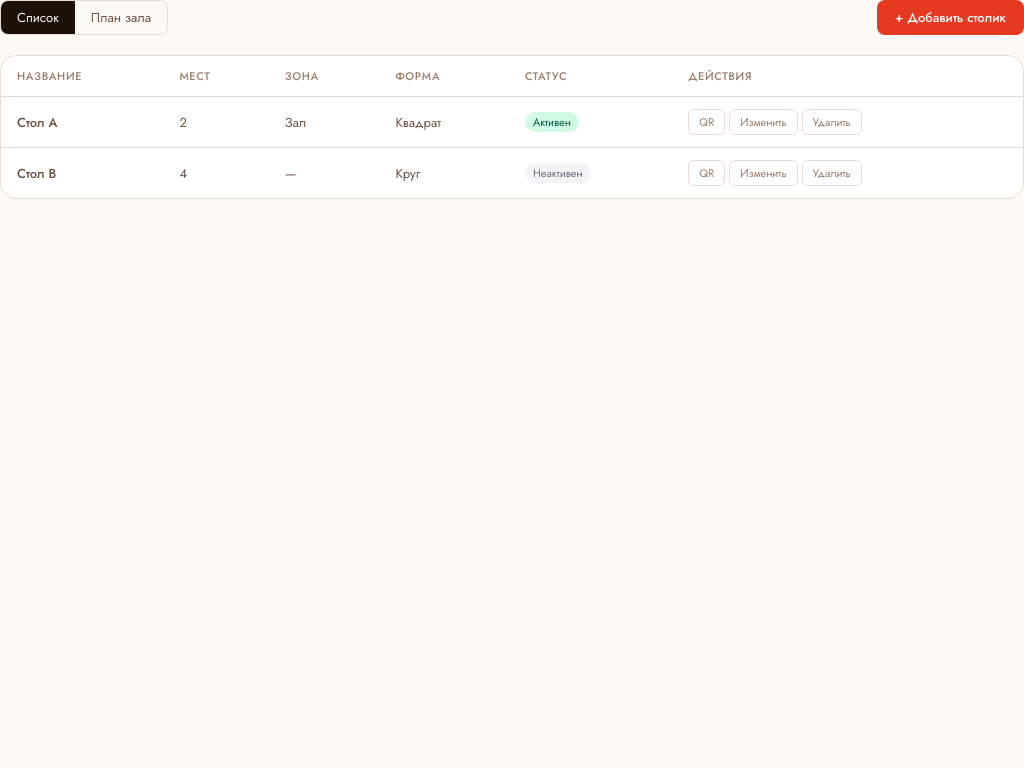
AdminTablesPage QR code › closes QR modal when Закрыть clicked
Click the button "QR" in the row of "Стол A": (707, 122) 688,109 -> 725,135
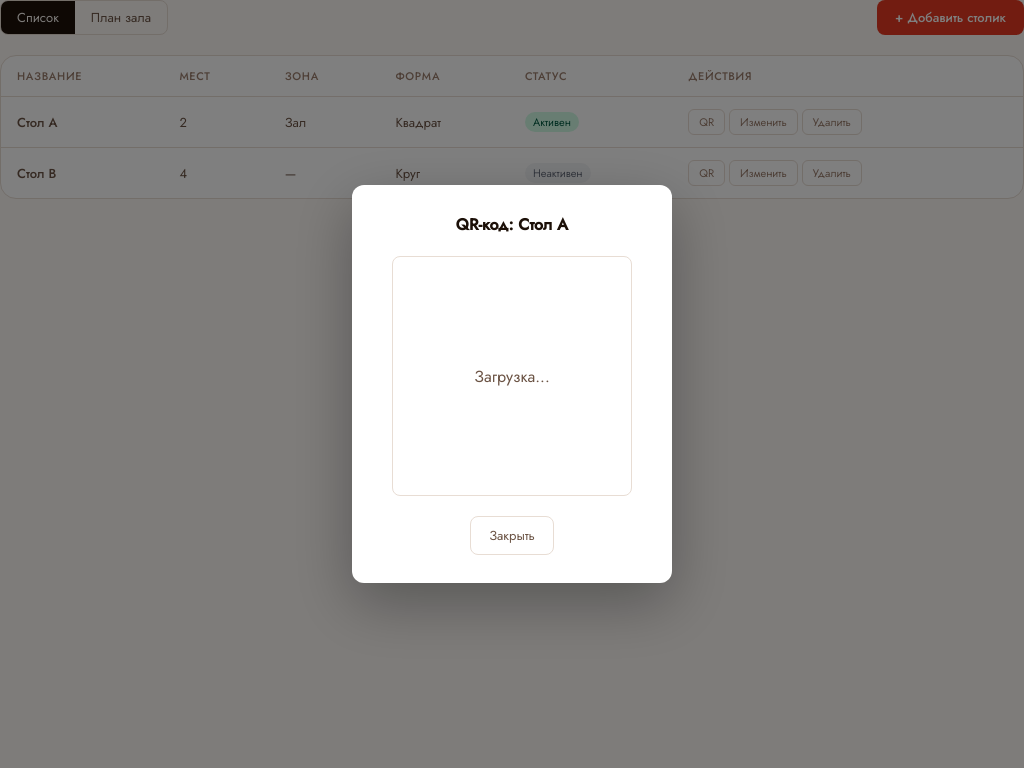
Check: the button "Закрыть" is shown
Click the button "Закрыть": (512, 536) 470,516 -> 554,555
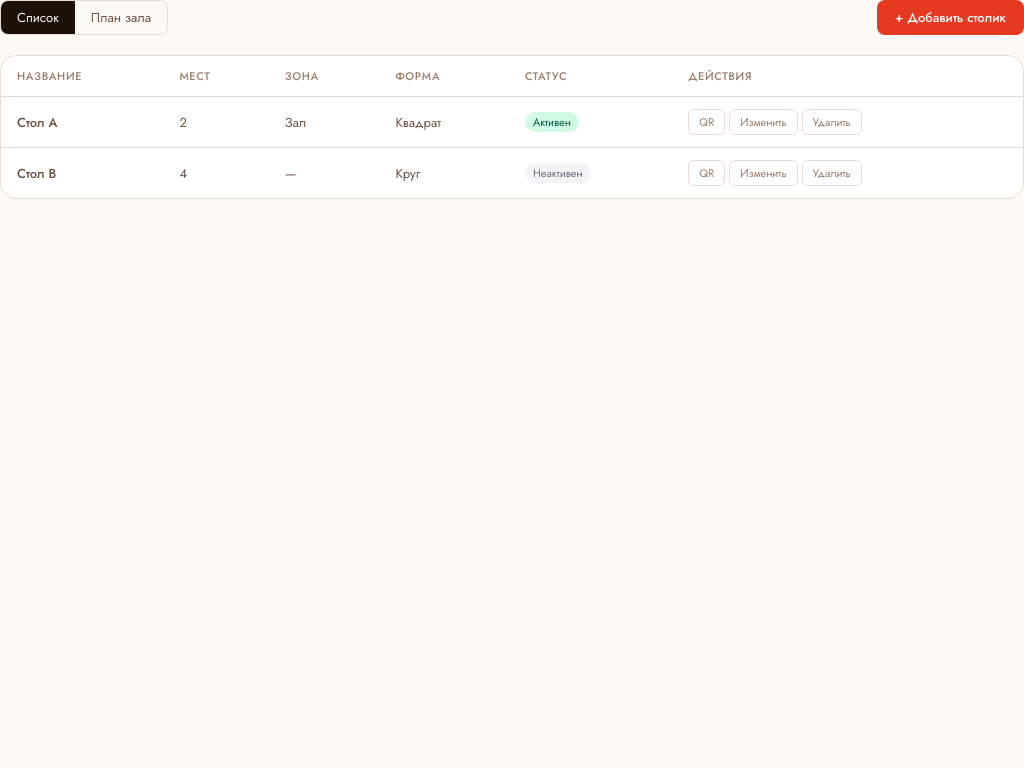
Check: the text "QR-код:" is gone
